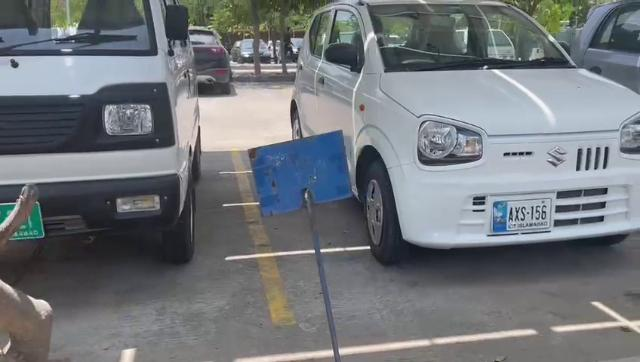plate: (492, 198, 553, 234)
